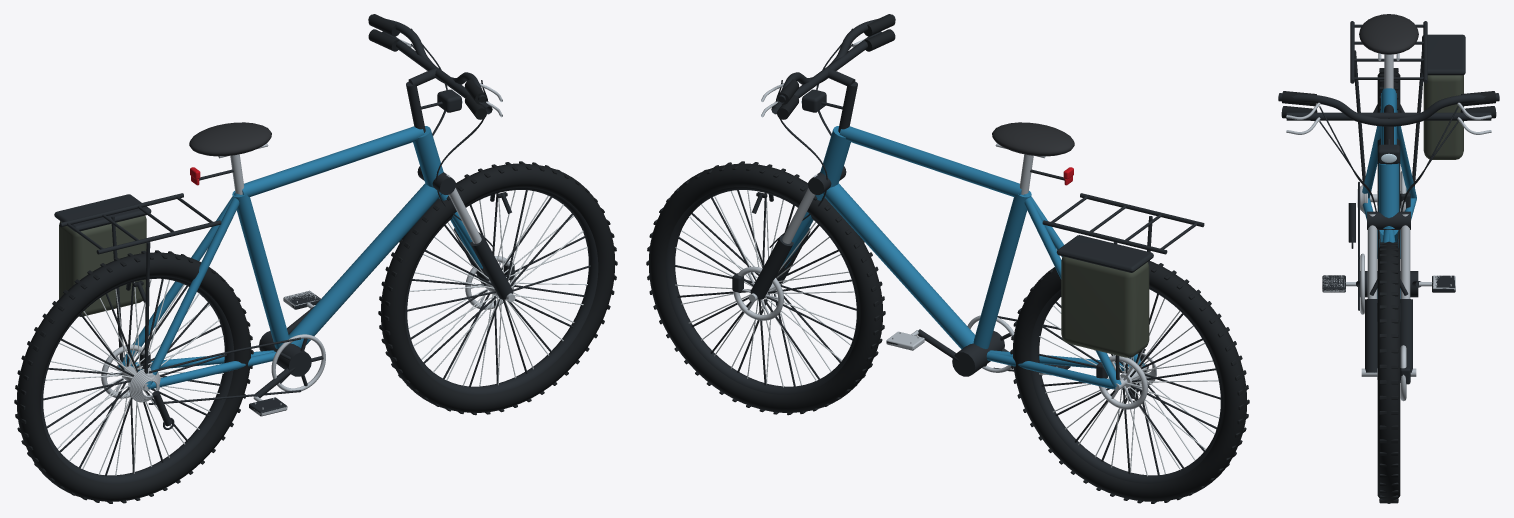
The model's file is bicycle-v1.glb.
3 renders of one model, left to right at view 1: azimuth 30°, elevation 25°; view 2: azimuth 150°, elevation 25°; view 3: azimuth 270°, elevation 25°, orthographic.
Visible parts, largest first — view 1: bike__tyres__trail_Rubber, bike__core__always_Bicycle frame, bike__wheels__aero_Black metal, bike__wheels__spokes_Spokes, Pannier bag, bike__rack__touring_Black metal, Saddle body, bike__handlebar__flat_Black metal, bike__fork__suspension_Black metal, bike__pedals__stock_Black metal, bike__handlebar__riser_Black metal, bike__brakes__disc_Brushed steel (+5 smaller); view 2: bike__tyres__trail_Rubber, bike__core__always_Bicycle frame, bike__wheels__aero_Black metal, Pannier bag, bike__wheels__spokes_Spokes, bike__rack__touring_Black metal, Saddle body, bike__handlebar__flat_Black metal, bike__brakes__disc_Brushed steel, bike__fork__suspension_Black metal, Bottom bracket, bike__handlebar__riser_Black metal (+2 smaller); view 3: bike__tyres__trail_Rubber, bike__rack__touring_Black metal, bike__core__always_Bicycle frame, Pannier bag, bike__fork__suspension_Black metal, bike__handlebar__riser_Black metal, bike__handlebar__flat_Black metal, Saddle body, bike__fork__suspension_Brushed steel, bike__pedals__stock_Black metal, bike__handlebar__riser_Rubber, bike__core__always_Brushed steel (+10 smaller).
Part boxes in pixels (left/top/right/bottom): bike__tyres__trail_Rubber: left=14, top=161, right=617, bottom=503; bike__core__always_Bicycle frame: left=118, top=126, right=443, bottom=389; bike__wheels__aero_Black metal: left=41, top=187, right=598, bottom=483; bike__wheels__spokes_Spokes: left=44, top=190, right=587, bottom=475; Pannier bag: left=59, top=215, right=146, bottom=316; bike__rack__touring_Black metal: left=54, top=193, right=221, bottom=373; Saddle body: left=189, top=122, right=271, bottom=156; bike__handlebar__flat_Black metal: left=382, top=31, right=494, bottom=247; bike__fork__suspension_Black metal: left=417, top=166, right=513, bottom=299; bike__pedals__stock_Black metal: left=249, top=291, right=320, bottom=416; bike__handlebar__riser_Black metal: left=368, top=14, right=494, bottom=247; bike__brakes__disc_Brushed steel: left=101, top=256, right=515, bottom=398; bike__tyres__trail_Rubber: left=646, top=161, right=1249, bottom=503; bike__core__always_Bicycle frame: left=820, top=126, right=1144, bottom=389; bike__wheels__aero_Black metal: left=665, top=187, right=1222, bottom=483; Pannier bag: left=1061, top=256, right=1149, bottom=357; bike__wheels__spokes_Spokes: left=675, top=190, right=1219, bottom=476; bike__rack__touring_Black metal: left=1042, top=193, right=1204, bottom=379; Saddle body: left=992, top=122, right=1074, bottom=156; bike__handlebar__flat_Black metal: left=769, top=31, right=881, bottom=247; bike__brakes__disc_Brushed steel: left=733, top=266, right=1147, bottom=409; bike__fork__suspension_Black metal: left=750, top=166, right=846, bottom=299; Bottom bracket: left=952, top=330, right=1004, bottom=376; bike__handlebar__riser_Black metal: left=769, top=14, right=895, bottom=247; bike__tyres__trail_Rubber: left=1377, top=68, right=1400, bottom=503; bike__rack__touring_Black metal: left=1350, top=21, right=1465, bottom=187; bike__core__always_Bicycle frame: left=1362, top=88, right=1416, bottom=258; Pannier bag: left=1423, top=75, right=1463, bottom=159; bike__fork__suspension_Black metal: left=1365, top=211, right=1412, bottom=372; bike__handlebar__riser_Black metal: left=1278, top=93, right=1499, bottom=303; bike__handlebar__flat_Black metal: left=1286, top=104, right=1491, bottom=321; Saddle body: left=1359, top=14, right=1418, bottom=54; bike__fork__suspension_Brushed steel: left=1367, top=214, right=1410, bottom=298; bike__pedals__stock_Black metal: left=1322, top=275, right=1455, bottom=292; bike__handlebar__riser_Rubber: left=1281, top=91, right=1496, bottom=106; bike__core__always_Brushed steel: left=1361, top=54, right=1416, bottom=376.
Bounding box in the file's own units: 1.85 × 1.11 × 0.6062.
